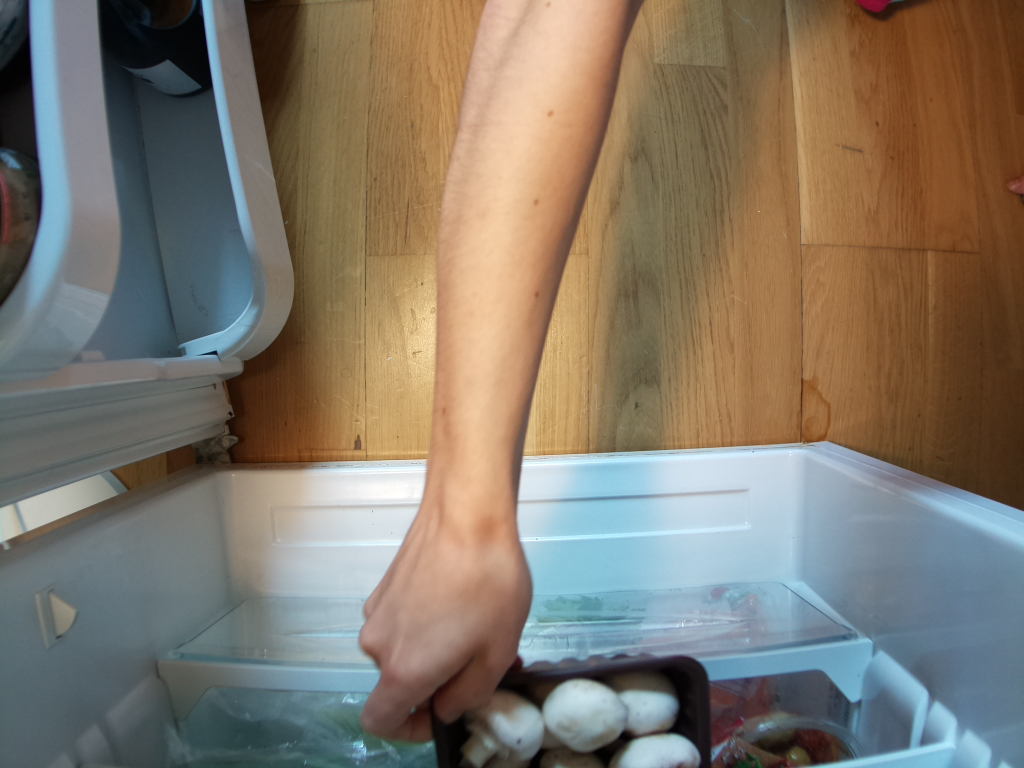mushrooms: (406, 658, 722, 768)
